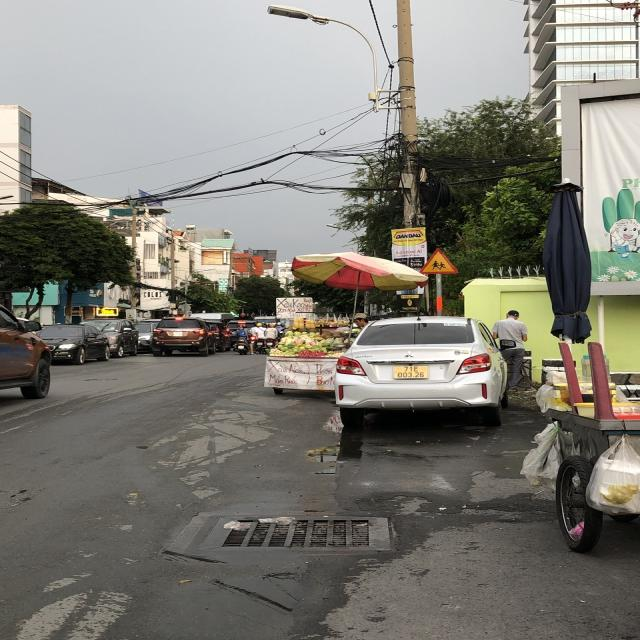Bien bao tre em: (416, 245, 463, 276)
